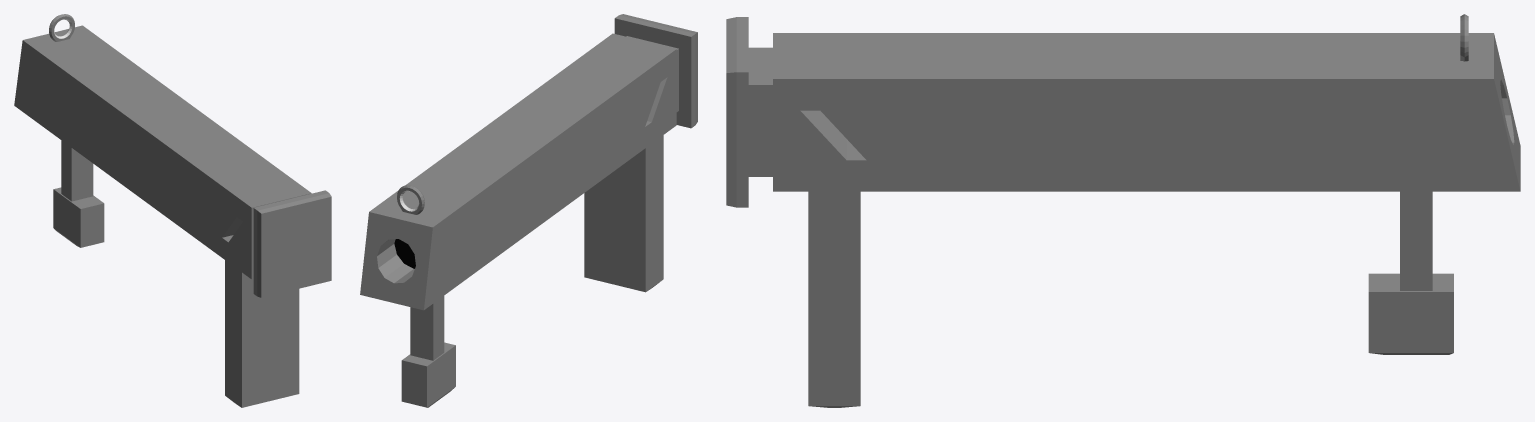
The model's file is NextGenShotgun.fbx.
3 renders of one model, left to right at view 1: azimuth 30°, elevation 25°; view 2: azimuth 150°, elevation 25°; view 3: azimuth 270°, elevation 25°, orthographic. The views are drawn at different scales.
Parts seen in each view (by area): view 1: NextGenShotgun; view 2: NextGenShotgun; view 3: NextGenShotgun.
Boxes of the visible parts, box(x1,y1,x2,y2) form: NextGenShotgun: box(14, 14, 331, 407); NextGenShotgun: box(360, 14, 697, 407); NextGenShotgun: box(726, 14, 1520, 407).
Bounding box in the file's own units: 83.9 × 263 × 510.
